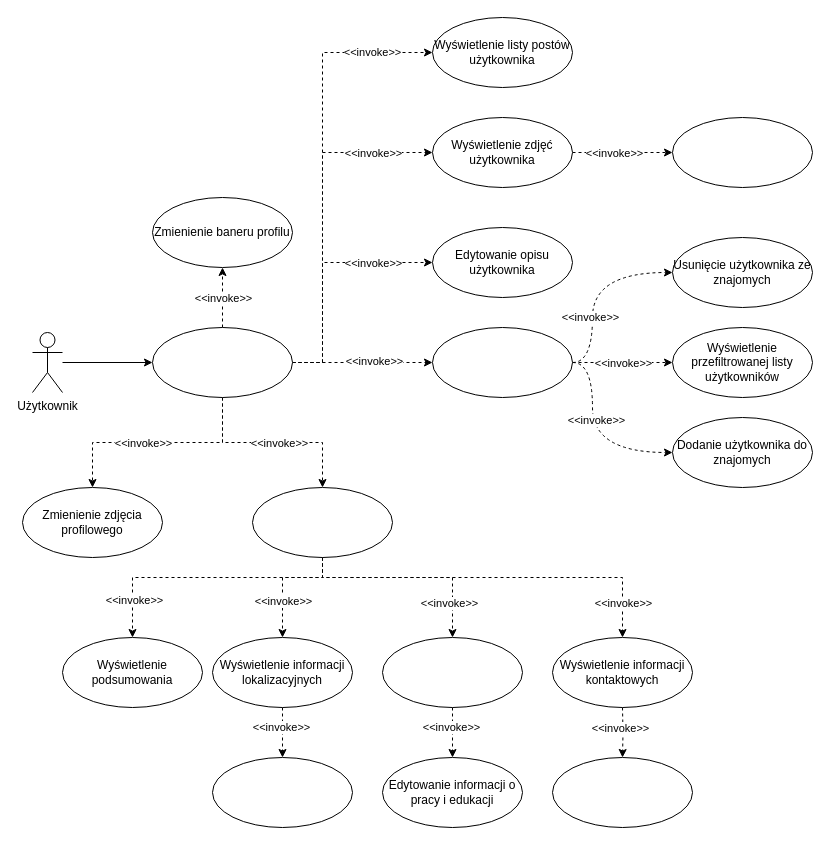
Some shapes in this 830 by 845 pixel diagram are drawn without their labels. Here are the shapes that lost their labels. From the top down, the box of each, then its label:
(672, 116, 812, 188): Pobranie zdjęcia
(152, 326, 292, 398): Wyświetlenie widoku profilu użytkownika
(432, 326, 572, 398): Wyświetlenie listy znajomych użytkownika
(252, 486, 392, 558): Wyświetlenie informacji o użytkowniku
(382, 636, 522, 708): Wyświetlenie informacji o pracy i edukacji
(212, 756, 352, 828): Edytowanie informacji lokalizacyjnych
(552, 756, 692, 828): Edytowanie informacji kontaktowych
